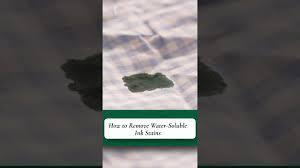ink: (122, 74, 173, 90)
